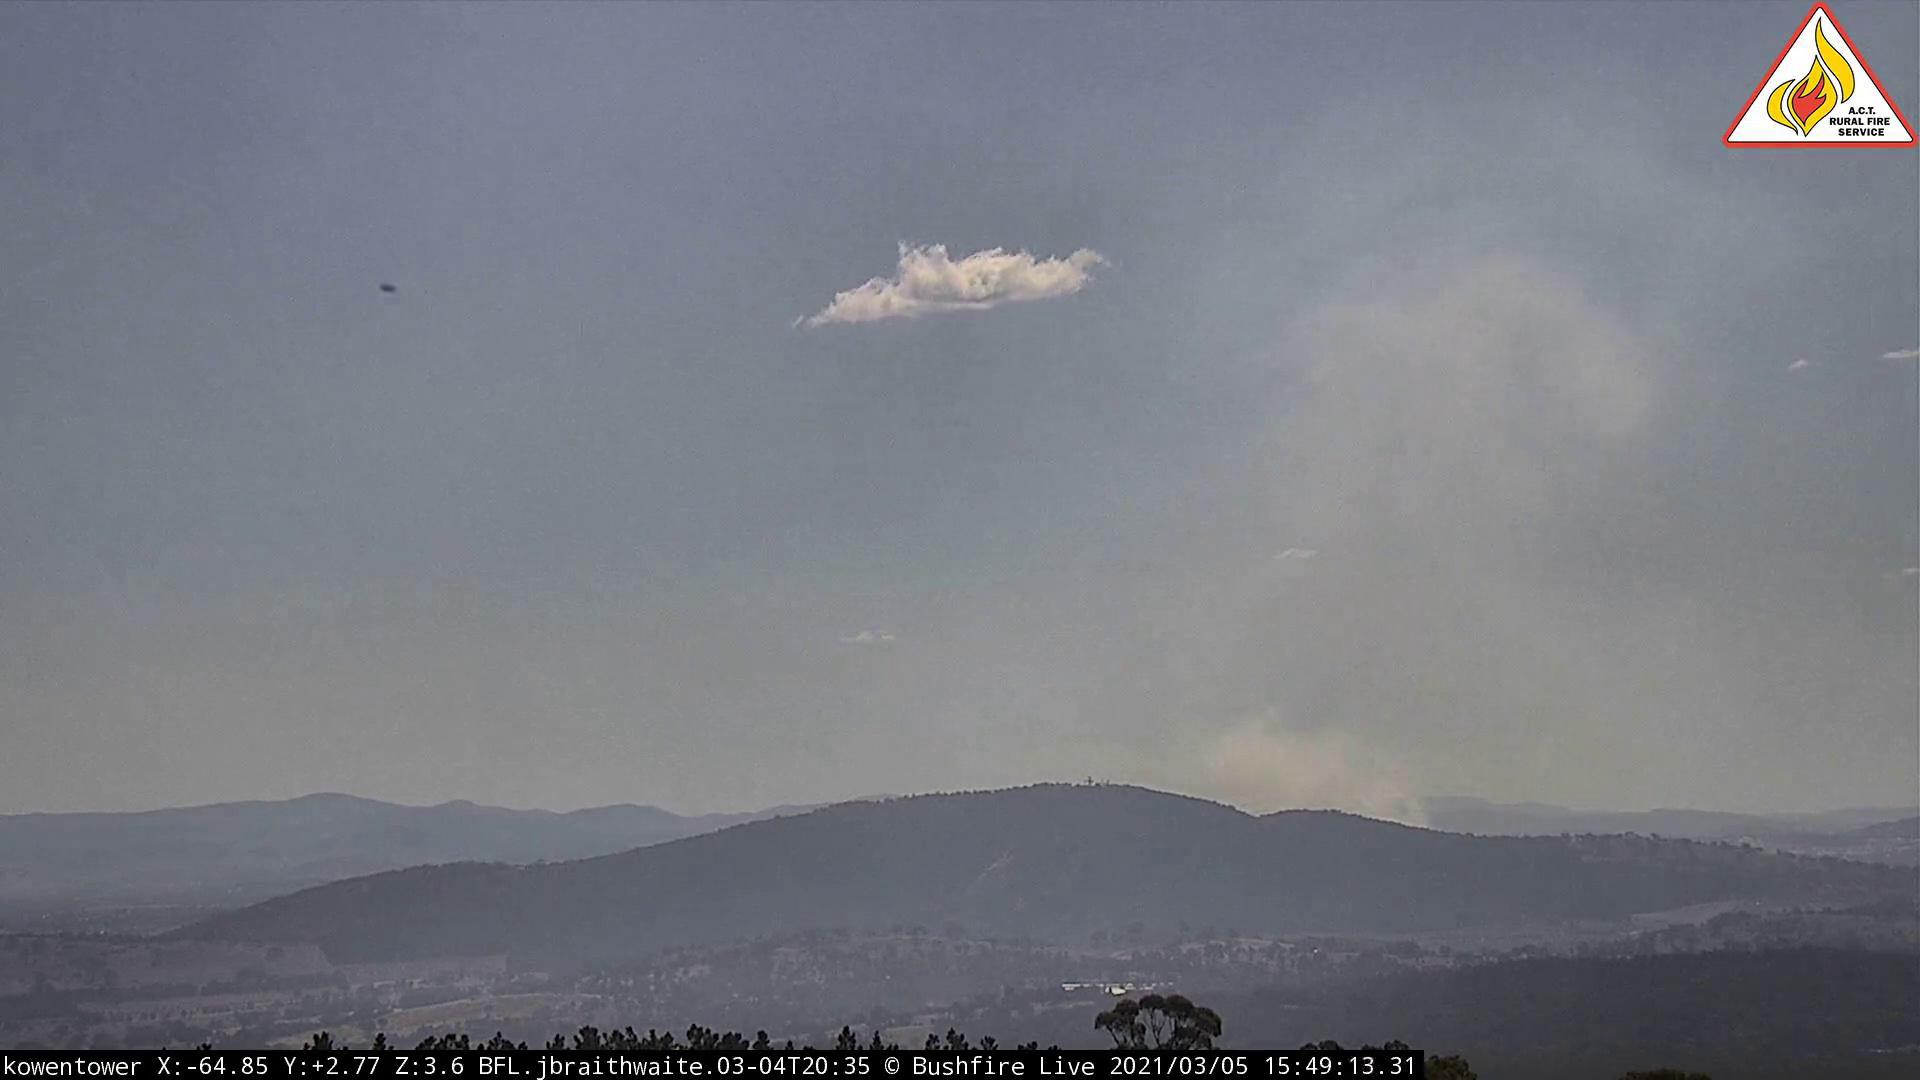Smoke: (1180, 160, 1815, 853)
